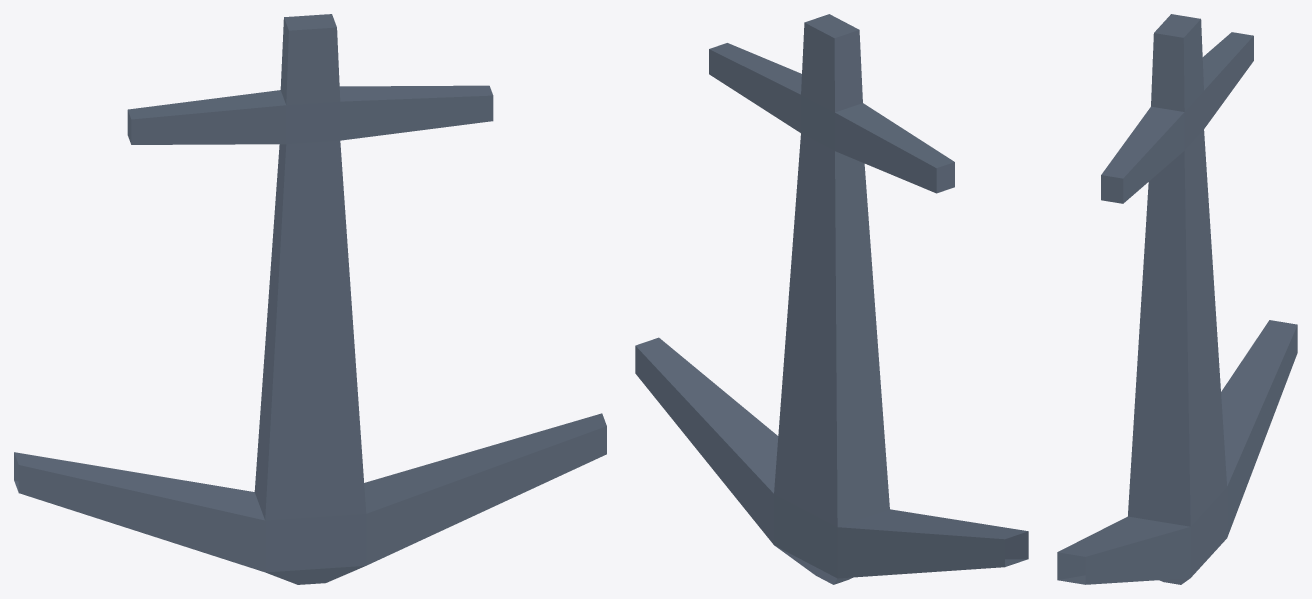
Rendered from anchor.glb.
The picture shows the model from 3 angles, left to right: view 1: azimuth 30°, elevation 25°; view 2: azimuth 150°, elevation 25°; view 3: azimuth 270°, elevation 25°; orthographic projection.
Parts seen in each view (by area): view 1: Cube.003; view 2: Cube.003; view 3: Cube.003.
Boxes of the visible parts, x1,y1,x2,y2 form: Cube.003: (14, 14, 606, 584); Cube.003: (635, 14, 1028, 584); Cube.003: (1057, 14, 1297, 584).
Bounding box in the file's own units: 0.113 × 0.1227 × 0.0485.
